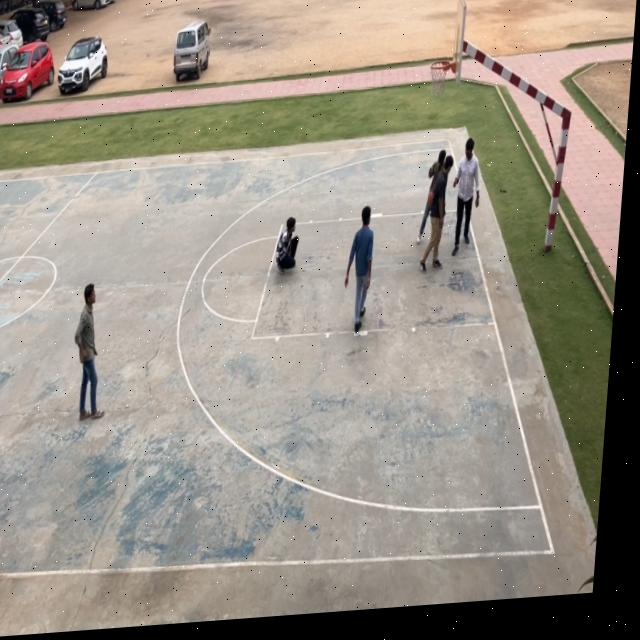basketball: (428, 190, 436, 207)
hoop: (429, 57, 450, 98)
